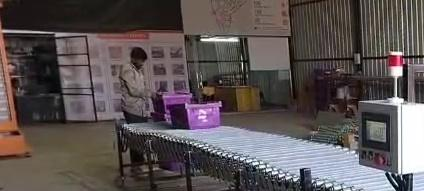box: (170, 102, 220, 129)
